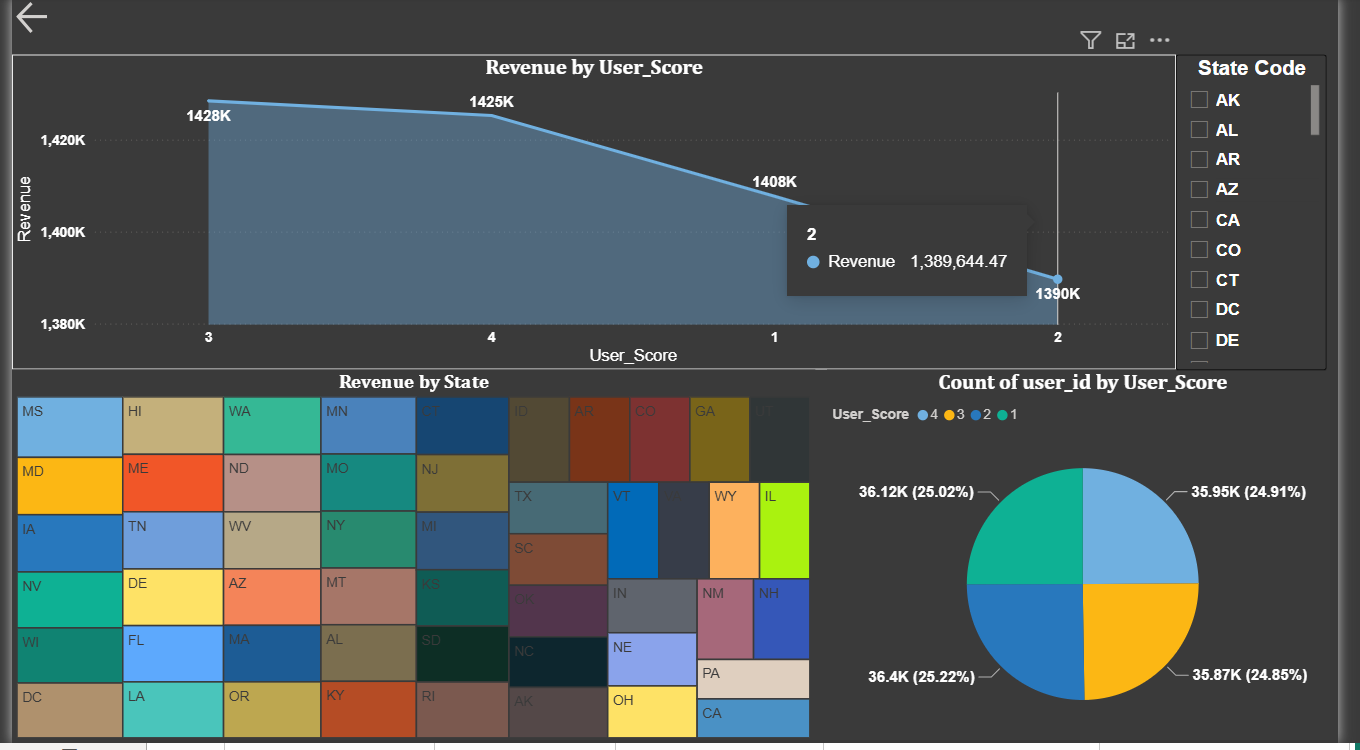

The page's visual inventory and layout, read from the dashboard file:
{"tool":"powerbi","page":{"name":"Metrices Based on user Score","canvas":[1280,720],"ordinal":7},"visuals":[{"type":"areaChart","fields":{"Y":["Sales_Data_Ecommerce.Revenue"],"Category":["Sales_Data_Ecommerce.User_Score"]},"box":[0,55,1123.8,304.5],"z":0},{"type":"pieChart","fields":{"Y":["Count(Sales_Data_Ecommerce.user_id)"],"Category":["Sales_Data_Ecommerce.User_Score"]},"box":[786.3,359.5,494,360.7],"z":1000},{"type":"slicer","title":"State Code","fields":{"Values":["Sales_Data_Ecommerce.State"]},"box":[1123.8,55,145.5,304.5],"z":2000},{"type":"treemap","fields":{"Group":["Sales_Data_Ecommerce.State"],"Values":["Sales_Data_Ecommerce.Revenue"]},"box":[0,359.5,775.3,360.7],"z":3000},{"type":"actionButton","box":[0,0,60.4,39.8],"z":4000}]}

Visuals, with their boxes on the page's 1280x720 design canvas (x1, y1, x2, y2). These are canvas units, not pixel positions in the 1360x750 screenshot, which may show the page scaled, cropped or inside an application window:
areaChart - Sales_Data_Ecommerce.Revenue x Sales_Data_Ecommerce.User_Score: region(0, 55, 1124, 360)
pieChart - Count(Sales_Data_Ecommerce.user_id) x Sales_Data_Ecommerce.User_Score: region(786, 360, 1280, 720)
"State Code" slicer: region(1124, 55, 1269, 360)
treemap - Sales_Data_Ecommerce.State x Sales_Data_Ecommerce.Revenue: region(0, 360, 775, 720)
actionButton: region(0, 0, 60, 40)
